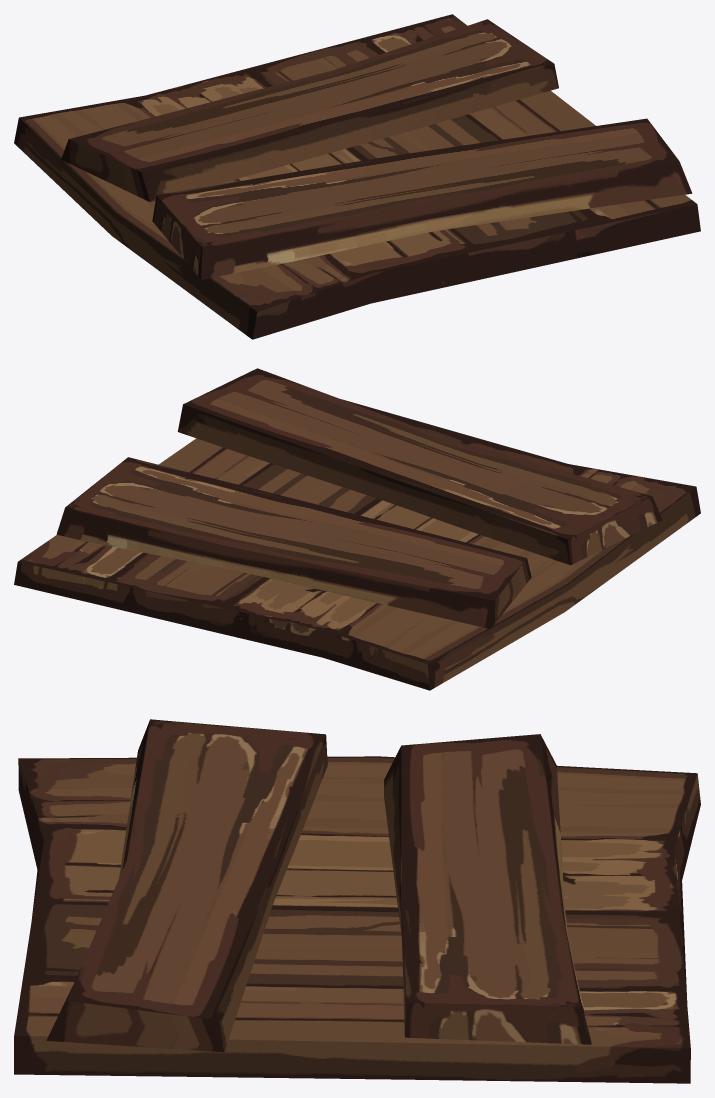
The model's file is SM_PROP_box_lid_dungeon.fbx.
3 renders of one model, top to bottom at view 1: azimuth 30°, elevation 25°; view 2: azimuth 150°, elevation 25°; view 3: azimuth 270°, elevation 25°, orthographic. The views are drawn at different scales.
Parts seen in each view (by area): view 1: SM_PROP_box_lid_dungeon; view 2: SM_PROP_box_lid_dungeon; view 3: SM_PROP_box_lid_dungeon.
Part boxes in pixels (left/top/right/bottom): SM_PROP_box_lid_dungeon: left=14, top=14, right=700, bottom=339; SM_PROP_box_lid_dungeon: left=14, top=368, right=700, bottom=690; SM_PROP_box_lid_dungeon: left=14, top=719, right=700, bottom=1083.
Bounding box in the file's own units: 96.77 × 11.23 × 92.87.
